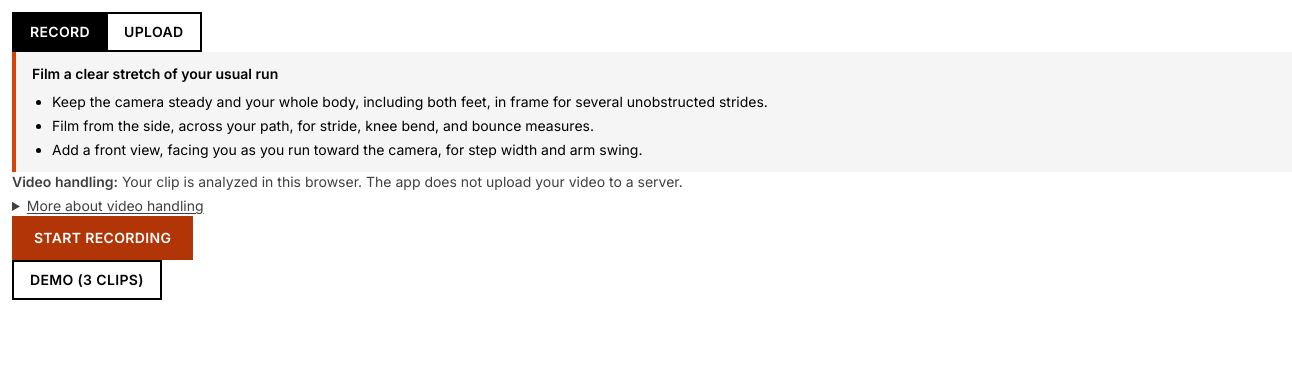
Test case: ClipPicker › switches to the Upload tab
Step 1. Click the button "Upload" → (154, 32), box [108,14,200,50]
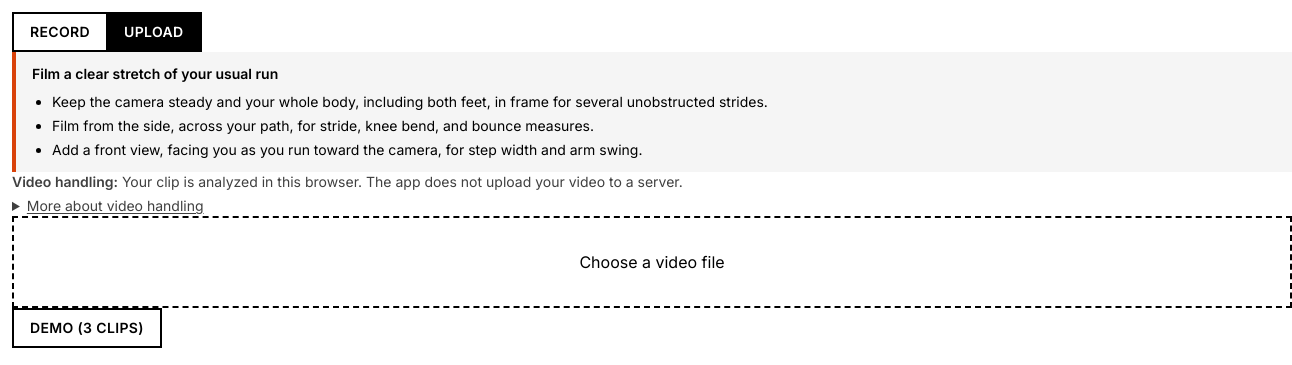
Expected: the file field labelled "Choose a video file" is shown, [12,216,1291,308]
Expected: the button "Start recording" is gone
